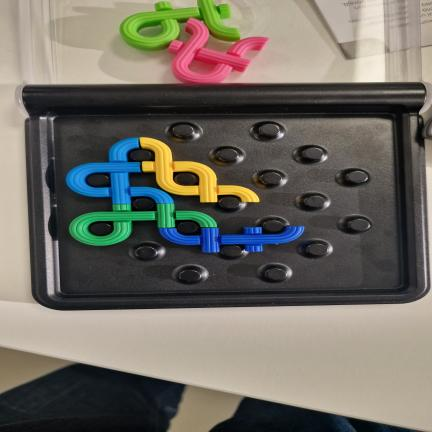A_Yellow: (139, 138, 259, 202)
B_SkyBlue: (66, 138, 173, 204)
C_DarkBlue: (159, 227, 304, 252)
D_Green: (70, 204, 216, 245)
board: (23, 82, 430, 310)
hinge: (9, 83, 426, 114)
pin: (89, 222, 112, 236), (179, 269, 202, 283), (129, 149, 153, 162), (172, 124, 194, 138), (258, 123, 280, 137), (216, 148, 238, 162), (262, 219, 284, 233), (86, 174, 109, 187), (135, 246, 158, 259), (174, 173, 198, 185), (302, 147, 324, 160), (260, 172, 282, 185), (304, 195, 326, 208), (132, 198, 154, 211), (348, 218, 370, 231), (265, 268, 287, 281), (345, 171, 368, 183), (218, 197, 241, 209), (307, 243, 328, 256), (177, 222, 199, 234), (221, 245, 243, 257)
